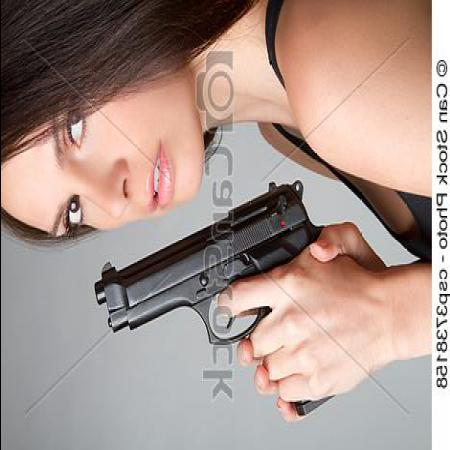Pistol: (88, 180, 341, 416)
